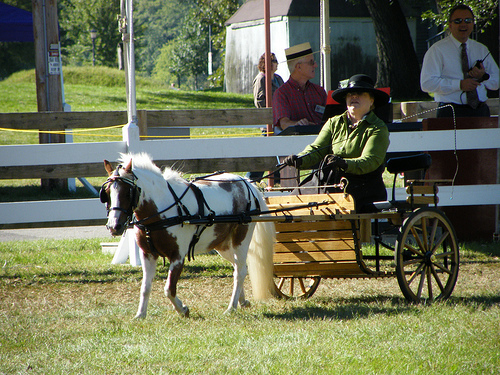horse: (100, 151, 281, 320)
